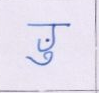u_matra: (27, 52, 54, 66)
